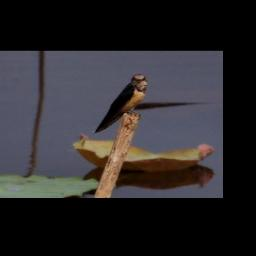Swallow: (93, 73, 148, 135)
